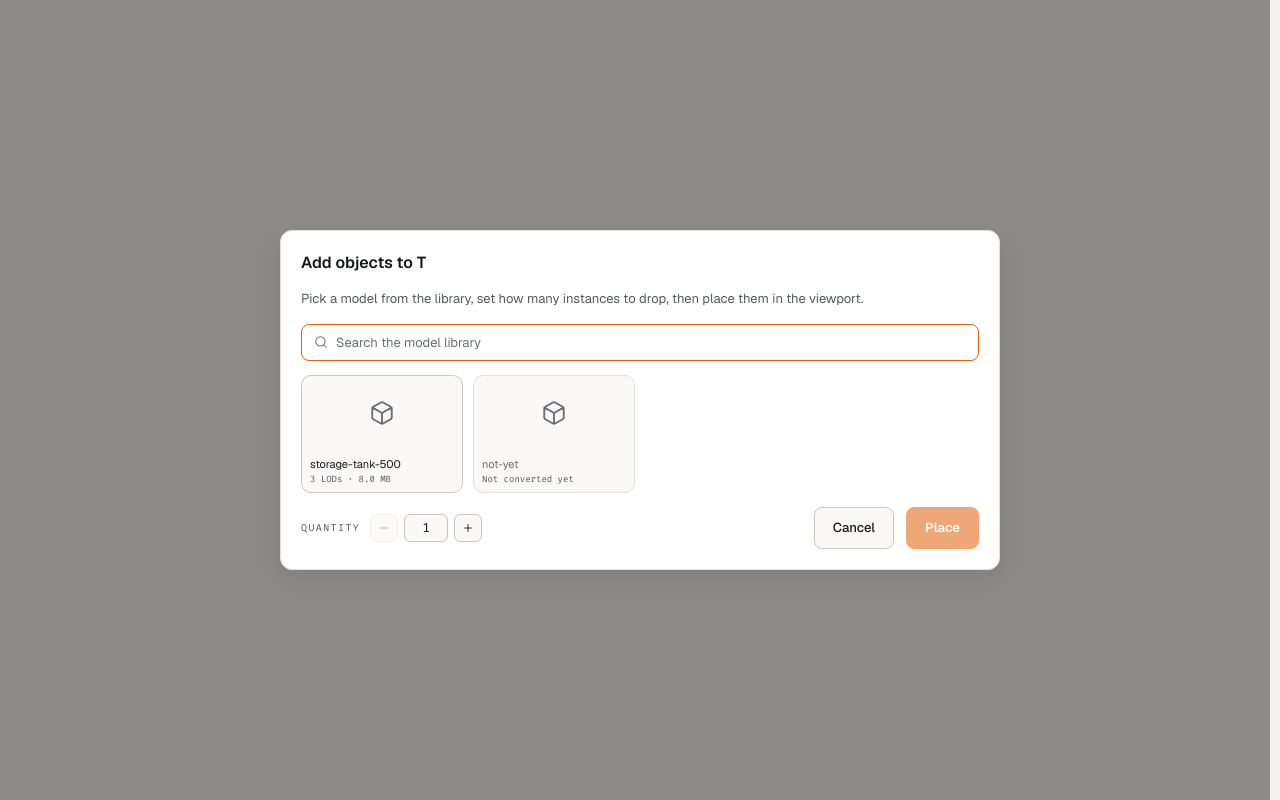
PlaceObjectsModal › keeps the primary reading `Place` once a model is picked
What coordinates should you click on to do the following:
click the button "storage-tank-500 3 LODs · 8.0 MB"
I would click on:
 (382, 434)
Its box is x1=302 y1=376 x2=462 y2=492.
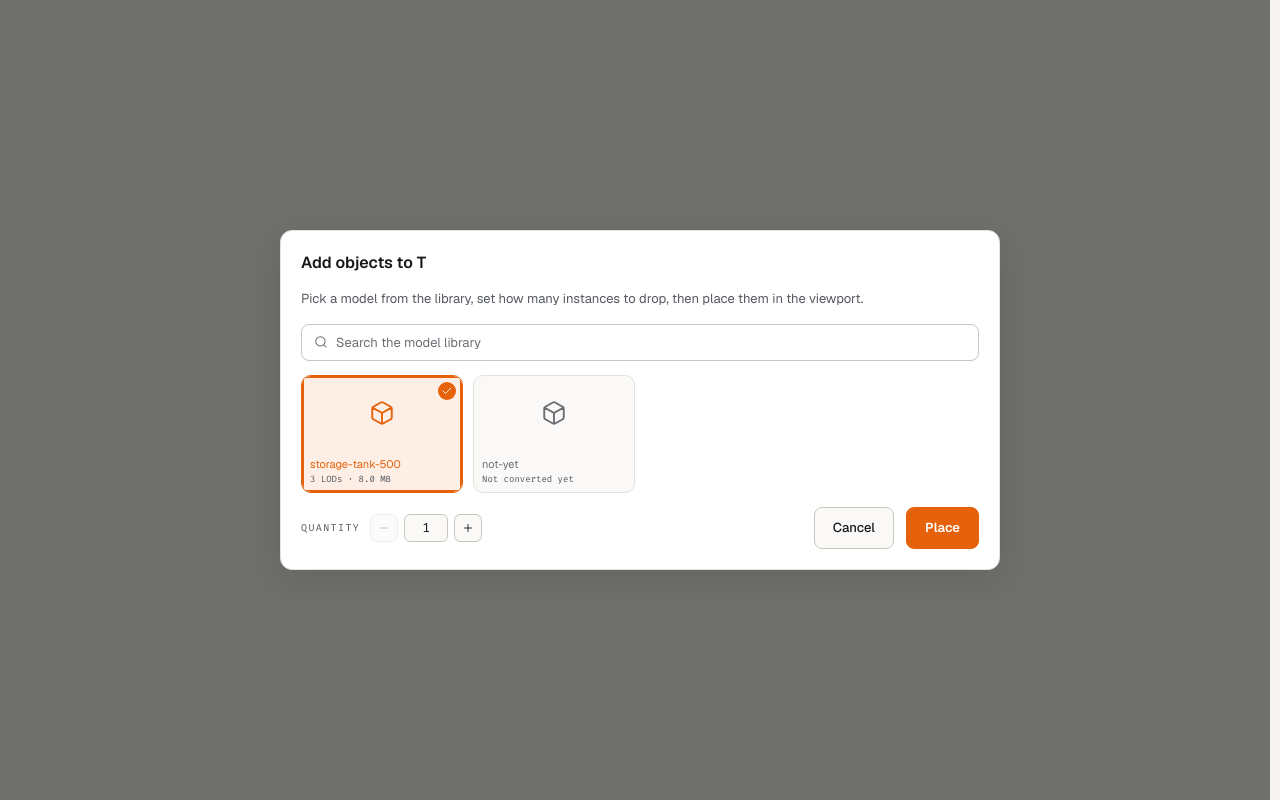
Now the button "Place" is enabled, box x1=906 y1=507 x2=979 y2=549
